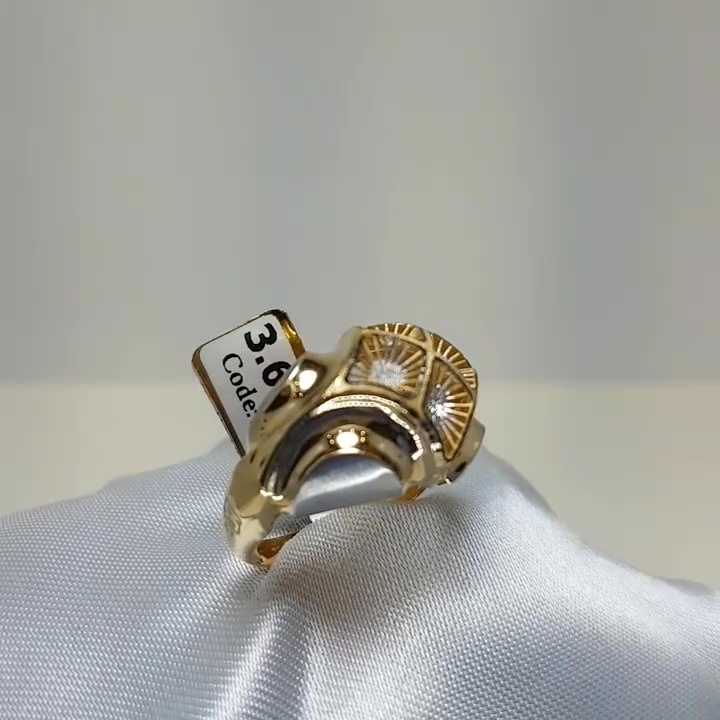Ring 2: (147, 291, 527, 591)
